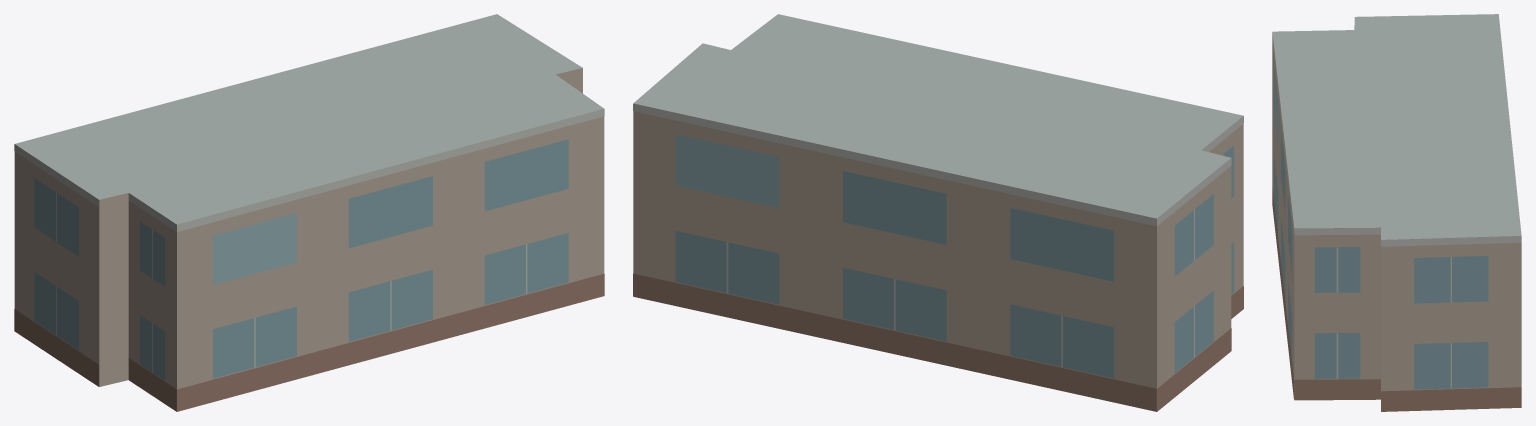
File: survey-upis-32656934.glb
3 views of the same model, side by side, from view 1: azimuth 30°, elevation 25°; view 2: azimuth 150°, elevation 25°; view 3: azimuth 270°, elevation 25° (orthographic). The views are drawn at different scales.
Visible parts, largest first — view 1: survey-upis-32656934.tmp; view 2: survey-upis-32656934.tmp; view 3: survey-upis-32656934.tmp.
Part boxes in pixels (x1,y1,x2,y2): survey-upis-32656934.tmp: [14, 14, 604, 411]; survey-upis-32656934.tmp: [633, 14, 1243, 411]; survey-upis-32656934.tmp: [1272, 14, 1521, 411].
Size of the model in its own units: 17.2 by 6.1 by 8.03.
